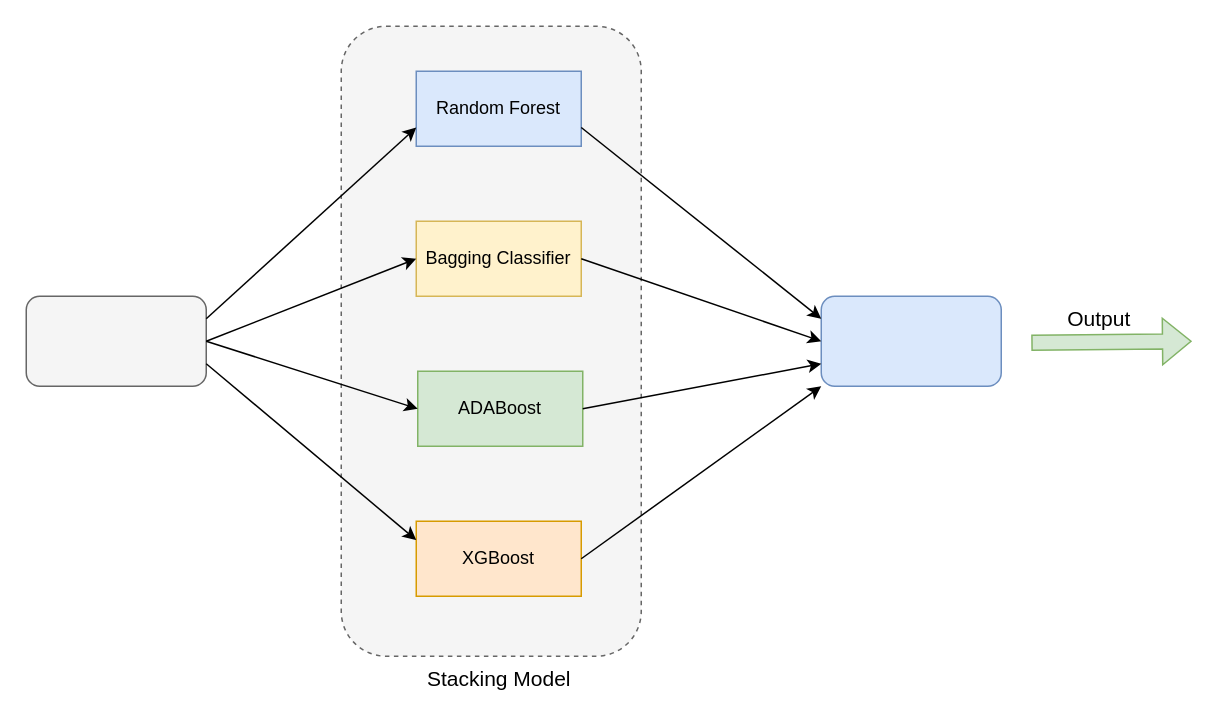
The diagram is 1218 pixels wide and 728 high, and some of its shapes have lost their labels. The shapes that lost their labels are listed below. From the top down, each one's centre as x and y in pixels, then its label:
pixel 115 340: Data
pixel 910 340: Meta Learner
